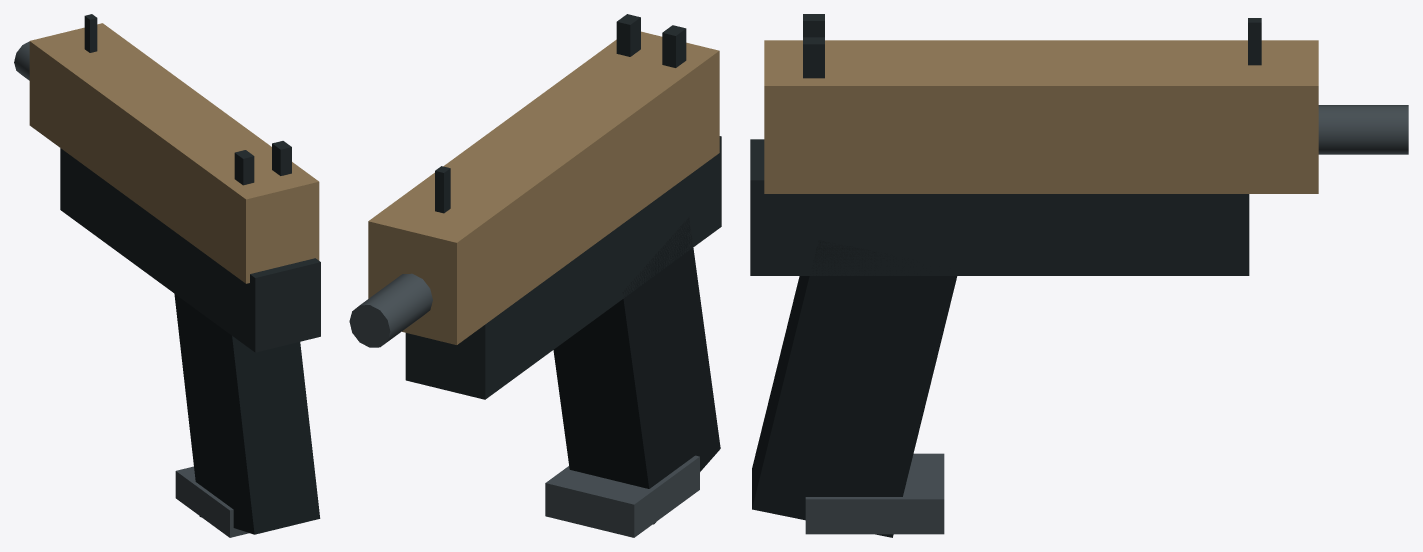
Rendered from lynx.glb.
3 renders of one model, left to right at view 1: azimuth 30°, elevation 25°; view 2: azimuth 150°, elevation 25°; view 3: azimuth 270°, elevation 25°, orthographic. The views are drawn at different scales.
Parts seen in each view (by area): view 1: Cuerpo1, Cuerpo2, Cuerpo0, Cargador, Cuerpo3; view 2: Cuerpo1, Cuerpo2, Cuerpo0, Cargador, Cuerpo3; view 3: Cuerpo1, Cuerpo0, Cuerpo2, Cargador, Cuerpo3.
Boxes of the visible parts, left/top/right/bottom form: Cuerpo1: left=29, top=23, right=319, bottom=283; Cuerpo2: left=174, top=293, right=320, bottom=534; Cuerpo0: left=60, top=14, right=320, bottom=352; Cargador: left=175, top=466, right=249, bottom=537; Cuerpo3: left=14, top=41, right=29, bottom=80; Cuerpo1: left=368, top=31, right=719, bottom=344; Cuerpo2: left=553, top=217, right=720, bottom=524; Cuerpo0: left=405, top=14, right=721, bottom=399; Cargador: left=545, top=455, right=699, bottom=537; Cuerpo3: left=349, top=273, right=432, bottom=347; Cuerpo1: left=764, top=40, right=1318, bottom=193; Cuerpo0: left=750, top=14, right=1261, bottom=275; Cuerpo2: left=752, top=240, right=957, bottom=537; Cargador: left=805, top=453, right=944, bottom=534; Cuerpo3: left=1318, top=105, right=1408, bottom=154.
Bounding box in the file's own units: 0.039 × 0.1978 × 0.2375.
